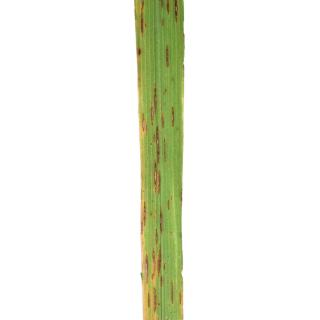Bercak-Cokelat-Sempit: (136, 0, 148, 57), (156, 0, 180, 28), (160, 38, 176, 72), (150, 160, 164, 196), (148, 84, 160, 126), (145, 286, 159, 320), (140, 194, 148, 238), (156, 204, 166, 239), (143, 250, 152, 284), (168, 102, 178, 132), (169, 276, 177, 309), (156, 242, 162, 280)
